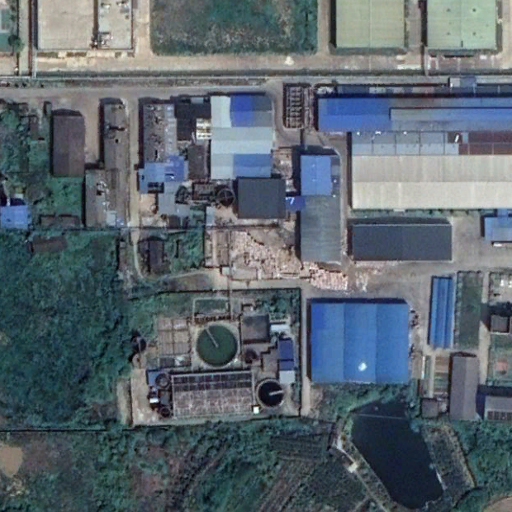msw: (232, 225, 349, 289)
